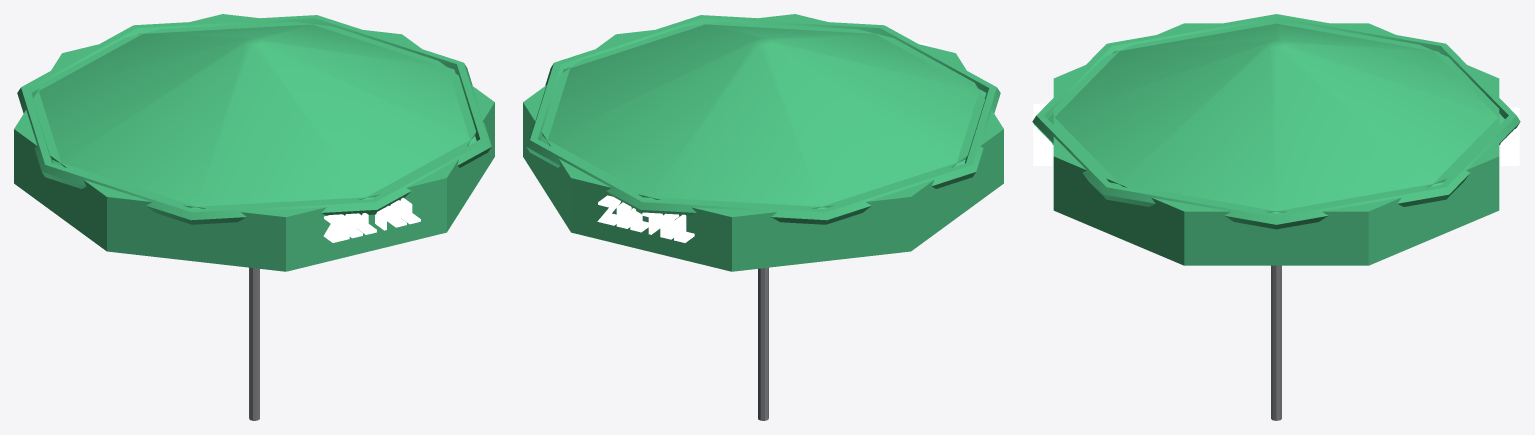
Rendered from umbrella_green.glb.
3 renders of one model, left to right at view 1: azimuth 30°, elevation 25°; view 2: azimuth 150°, elevation 25°; view 3: azimuth 270°, elevation 25°, orthographic.
Parts seen in each view (by area): view 1: BLD_umbrella_green; view 2: BLD_umbrella_green; view 3: BLD_umbrella_green.
Boxes of the visible parts, <box> form: BLD_umbrella_green: <box>14,14,494,420</box>; BLD_umbrella_green: <box>523,14,1003,420</box>; BLD_umbrella_green: <box>1032,14,1520,420</box>.
Size of the model in its own units: 3.1 by 2.62 by 3.1.
